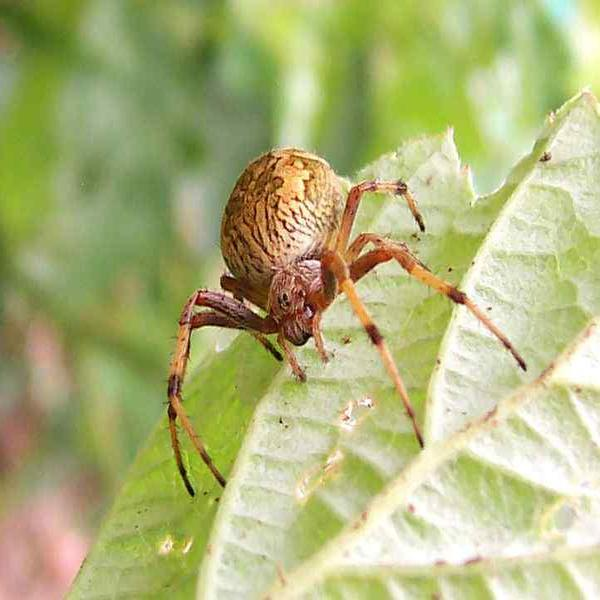Garden_Orb_Weaver_Spider: (166, 149, 528, 496)
